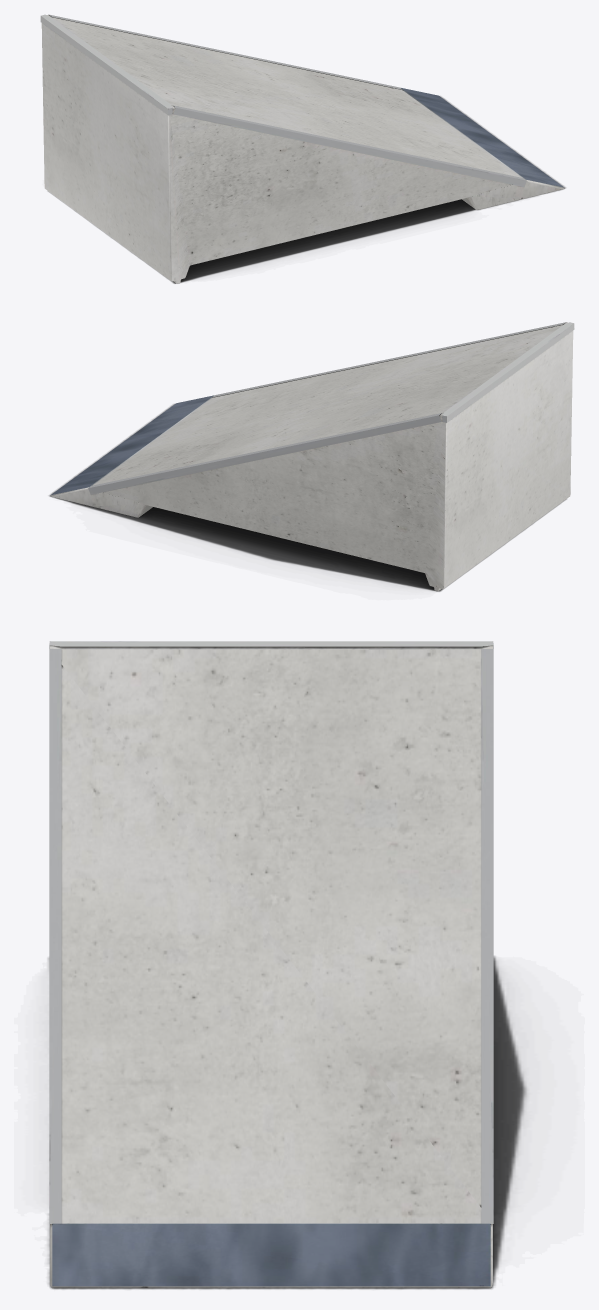
Rendered from bank-98.gltf.
3 views of the same model, one above another, from view 1: azimuth 30°, elevation 25°; view 2: azimuth 150°, elevation 25°; view 3: azimuth 270°, elevation 25° (orthographic). The views are drawn at different scales.
Visible parts, largest first — view 1: SK0128_Bank_-98.001, Schatten; view 2: SK0128_Bank_-98.001, Schatten; view 3: SK0128_Bank_-98.001, Schatten.
Part boxes in pixels (x1,y1,x2,y2): SK0128_Bank_-98.001: (40, 14, 564, 283); Schatten: (48, 96, 565, 283); SK0128_Bank_-98.001: (50, 322, 574, 591); Schatten: (49, 404, 566, 591); SK0128_Bank_-98.001: (49, 641, 493, 1288); Schatten: (48, 956, 527, 1289).
Bounding box in the file's own units: 2.31 × 0.96 × 1.61.
4 materials, 4 textured.
